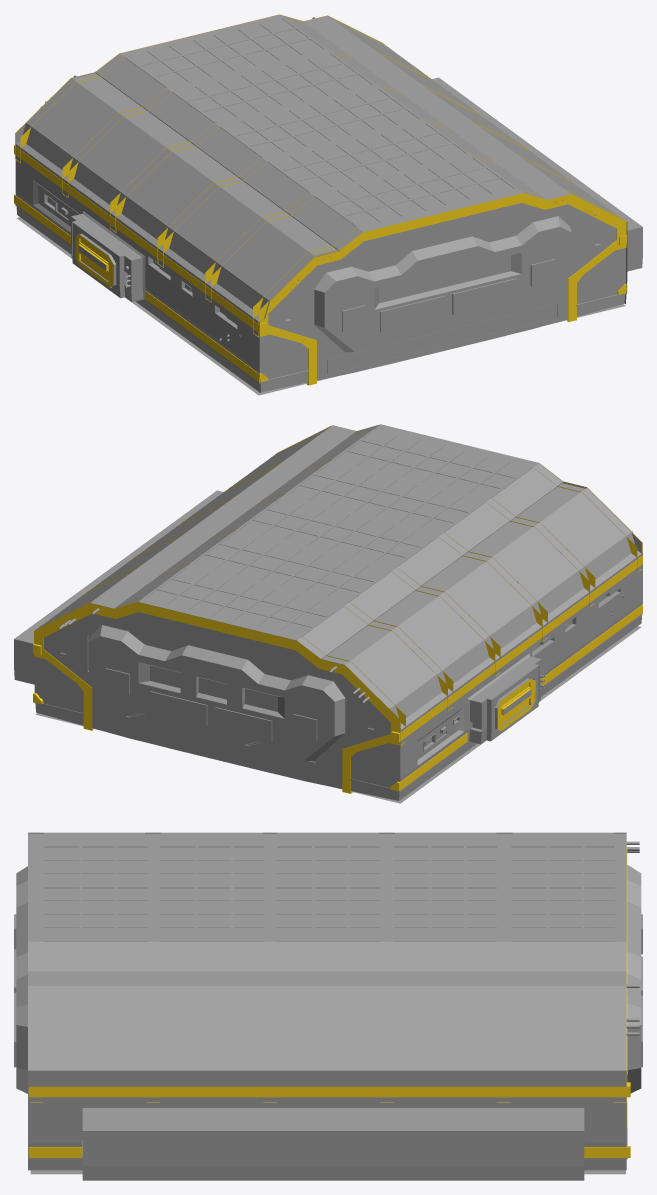
Rendered from ScifiHangarScene.obj.
3 renders of one model, top to bottom at view 1: azimuth 30°, elevation 25°; view 2: azimuth 150°, elevation 25°; view 3: azimuth 270°, elevation 25°, orthographic. The views are drawn at different scales.
Visible parts, largest first — view 1: Plane.006_Plane.010, FrontEntrance_Plane.015, Plane.012_Plane.014, FrontEntrance.001_Plane.003, Plane.007_Plane.009, Plane.009_Plane.007, Plane_Plane.019, Plane.011_Plane.008, Cube.024_Cube.051, FrontEntrance.003_Plane.038, Plane.008_Plane.000, Floor.001_Plane.017 (+1 smaller); view 2: Plane.006_Plane.010, FrontEntrance_Plane.015, Plane.012_Plane.014, FrontEntrance.002_Plane.004, Plane.007_Plane.009, Plane.009_Plane.007, Plane_Plane.019, Plane.011_Plane.008, Cube.024_Cube.051, FrontEntrance.003_Plane.038, Plane.008_Plane.000, Floor.001_Plane.017; view 3: Plane.006_Plane.010, Plane.009_Plane.007, Plane_Plane.019, Cube.024_Cube.051, Plane.012_Plane.014, FrontEntrance_Plane.015, Plane.015_Plane.033, FrontEntrance.003_Plane.038, Plane.007_Plane.009.
Part boxes in pixels (box(x1,y1,x2,y2)): Plane.006_Plane.010: box(15, 15, 642, 392); FrontEntrance_Plane.015: box(15, 21, 625, 392); Plane.012_Plane.014: box(72, 54, 363, 257); FrontEntrance.001_Plane.003: box(324, 227, 571, 351); Plane.007_Plane.009: box(15, 14, 626, 385); Plane.009_Plane.007: box(280, 15, 570, 199); Plane_Plane.019: box(125, 18, 515, 226); Plane.011_Plane.008: box(16, 124, 269, 322); Cube.024_Cube.051: box(14, 145, 627, 382); FrontEntrance.003_Plane.038: box(327, 259, 557, 374); Plane.008_Plane.000: box(72, 222, 120, 297); Floor.001_Plane.017: box(16, 217, 625, 395); Plane.006_Plane.010: box(14, 424, 642, 800); FrontEntrance_Plane.015: box(34, 482, 641, 800); Plane.012_Plane.014: box(297, 463, 586, 664); FrontEntrance.002_Plane.004: box(88, 636, 334, 760); Plane.007_Plane.009: box(34, 424, 642, 793); Plane.009_Plane.007: box(90, 425, 379, 608); Plane_Plane.019: box(143, 428, 532, 636); Plane.011_Plane.008: box(390, 532, 641, 729); Cube.024_Cube.051: box(33, 555, 642, 791); FrontEntrance.003_Plane.038: box(105, 668, 317, 741); Plane.008_Plane.000: box(491, 666, 538, 740); Floor.001_Plane.017: box(35, 626, 641, 803); Plane.006_Plane.010: box(28, 846, 626, 1180); Plane.009_Plane.007: box(28, 941, 626, 985); Plane_Plane.019: box(44, 845, 614, 941); Cube.024_Cube.051: box(28, 1082, 630, 1157); Plane.012_Plane.014: box(28, 832, 626, 845); FrontEntrance_Plane.015: box(16, 865, 641, 1093); Plane.015_Plane.033: box(43, 832, 613, 833); FrontEntrance.003_Plane.038: box(14, 914, 642, 1067); Plane.007_Plane.009: box(30, 846, 627, 1127).
Size of the model in its own units: 51.73 by 16.69 by 53.84.
